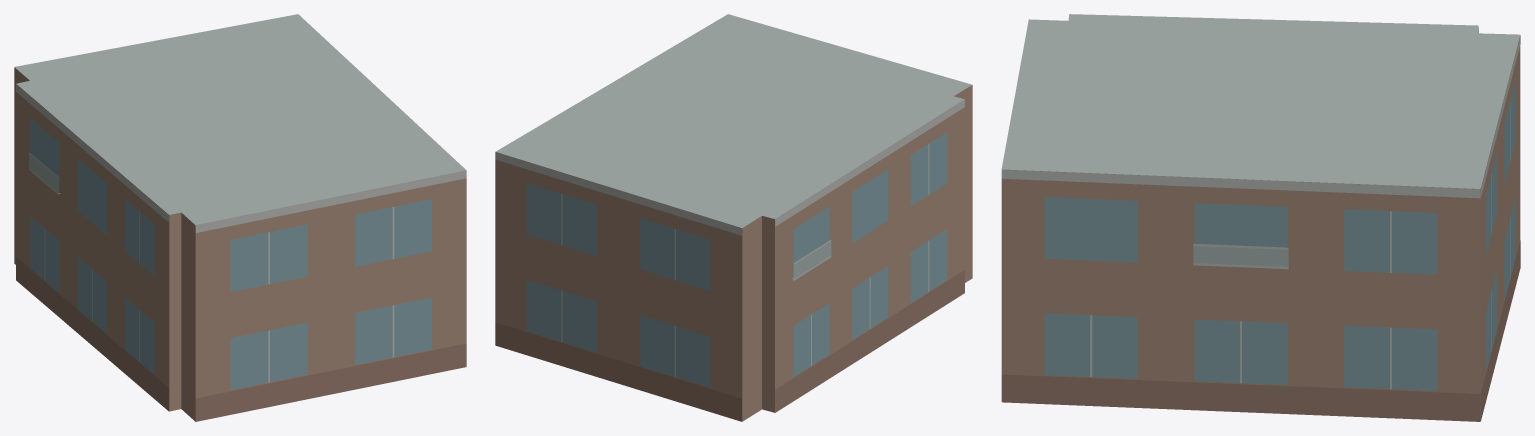
The model's file is survey-upis-33011133.glb.
3 views of the same model, side by side, from view 1: azimuth 30°, elevation 25°; view 2: azimuth 150°, elevation 25°; view 3: azimuth 270°, elevation 25° (orthographic). The views are drawn at different scales.
Parts seen in each view (by area): view 1: survey-upis-33011133.tmp; view 2: survey-upis-33011133.tmp; view 3: survey-upis-33011133.tmp.
Part boxes in pixels (<box>): survey-upis-33011133.tmp: <box>14,14,466,421</box>; survey-upis-33011133.tmp: <box>495,14,972,421</box>; survey-upis-33011133.tmp: <box>1001,14,1520,421</box>.
Bounding box in the file's own units: 9.84 × 6.1 × 12.33.
